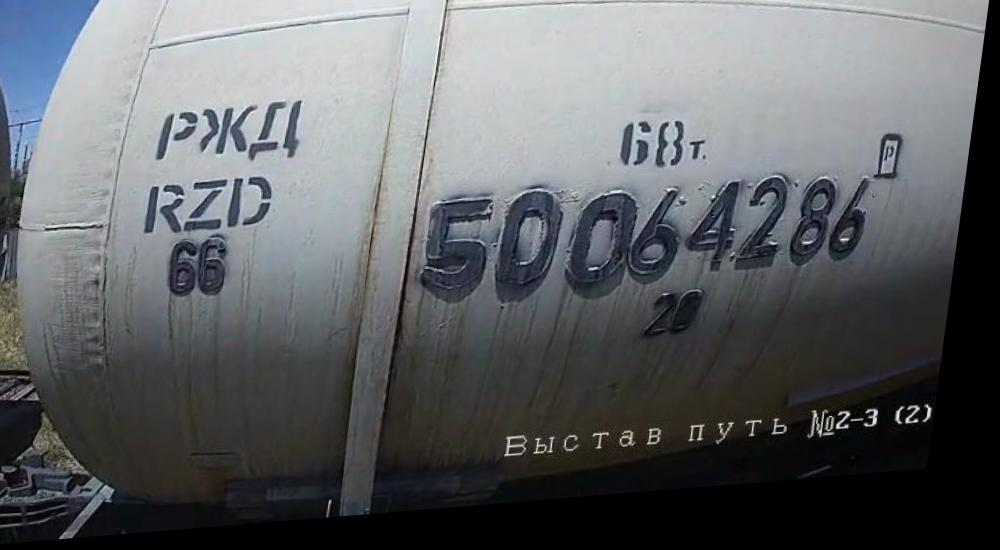Wagon-number: (416, 170, 886, 322)
